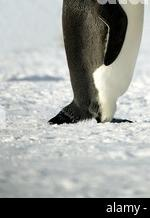Emperor Penguin: (46, 0, 147, 137)
